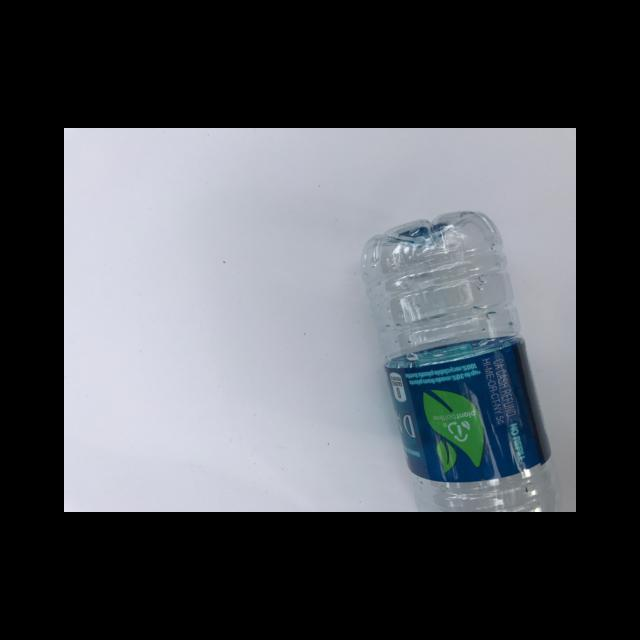plastic: (359, 210, 557, 511), (384, 335, 550, 481)
